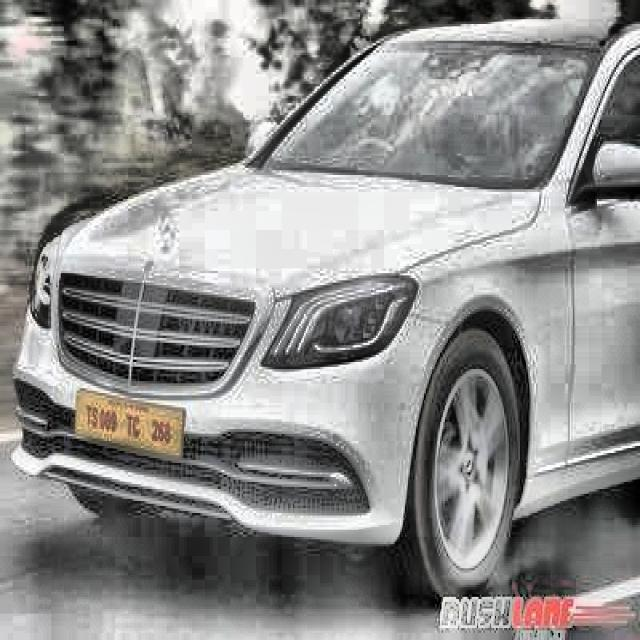license_plate: (74, 391, 176, 456)
